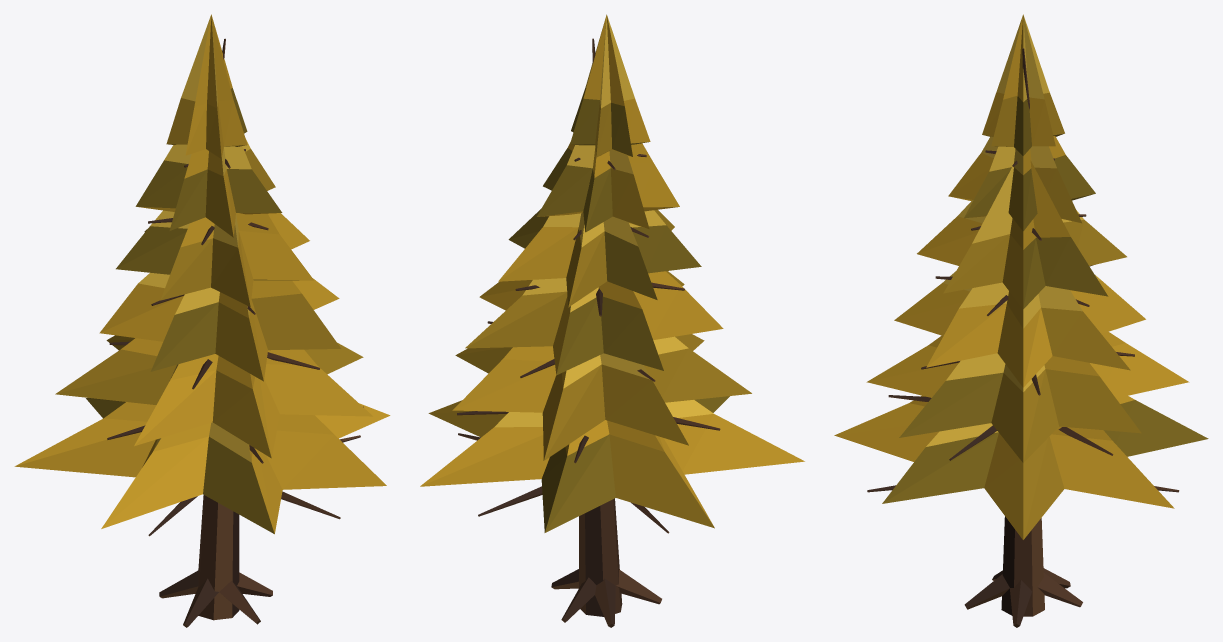
File: tree_larch_gold.obj
3 views of the same model, side by side, from view 1: azimuth 30°, elevation 25°; view 2: azimuth 150°, elevation 25°; view 3: azimuth 270°, elevation 25° (orthographic).
Parts seen in each view (by area): view 1: tree_larch_gold; view 2: tree_larch_gold; view 3: tree_larch_gold.
Boxes of the visible parts, box(x1,y1,x2,y2) form: tree_larch_gold: box(14, 14, 390, 627); tree_larch_gold: box(420, 14, 804, 627); tree_larch_gold: box(834, 14, 1208, 627).
Bounding box in the file's own units: 392 × 670 × 385.
1 material, 1 textured.
